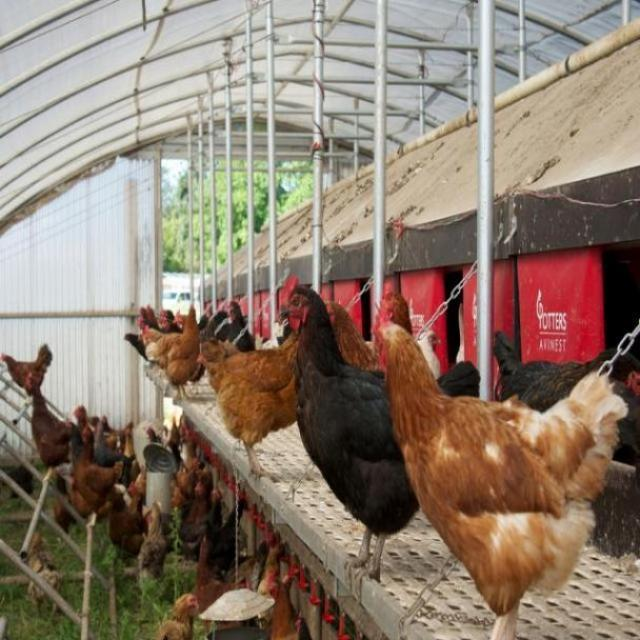Chicken: (275, 280, 482, 598), (199, 331, 300, 484), (121, 298, 254, 399), (490, 325, 640, 412), (327, 281, 423, 377), (146, 418, 217, 537), (65, 414, 124, 539), (191, 532, 245, 634), (28, 369, 71, 488), (131, 497, 171, 601), (196, 496, 245, 579), (177, 483, 230, 557), (25, 533, 68, 616), (0, 349, 56, 412), (112, 484, 151, 569), (152, 593, 201, 640), (268, 567, 298, 639), (91, 412, 125, 472), (416, 327, 445, 381), (53, 472, 74, 539), (70, 401, 93, 442), (291, 610, 317, 640)
